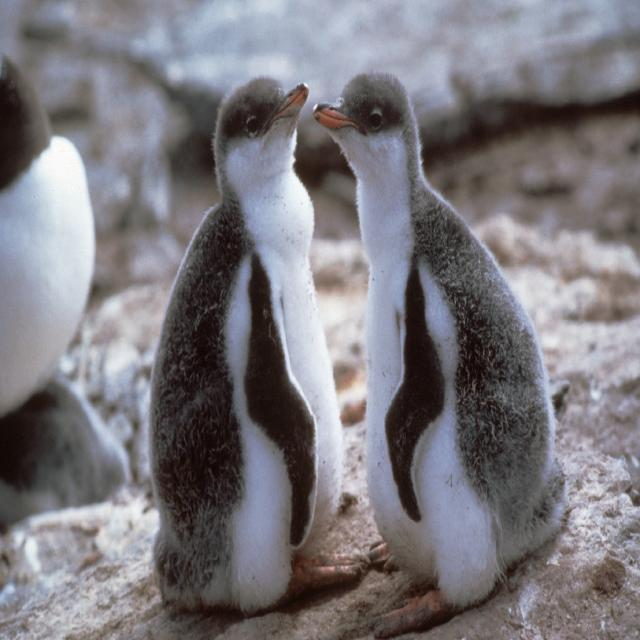Penguins: (316, 59, 554, 607), (166, 71, 337, 612)
